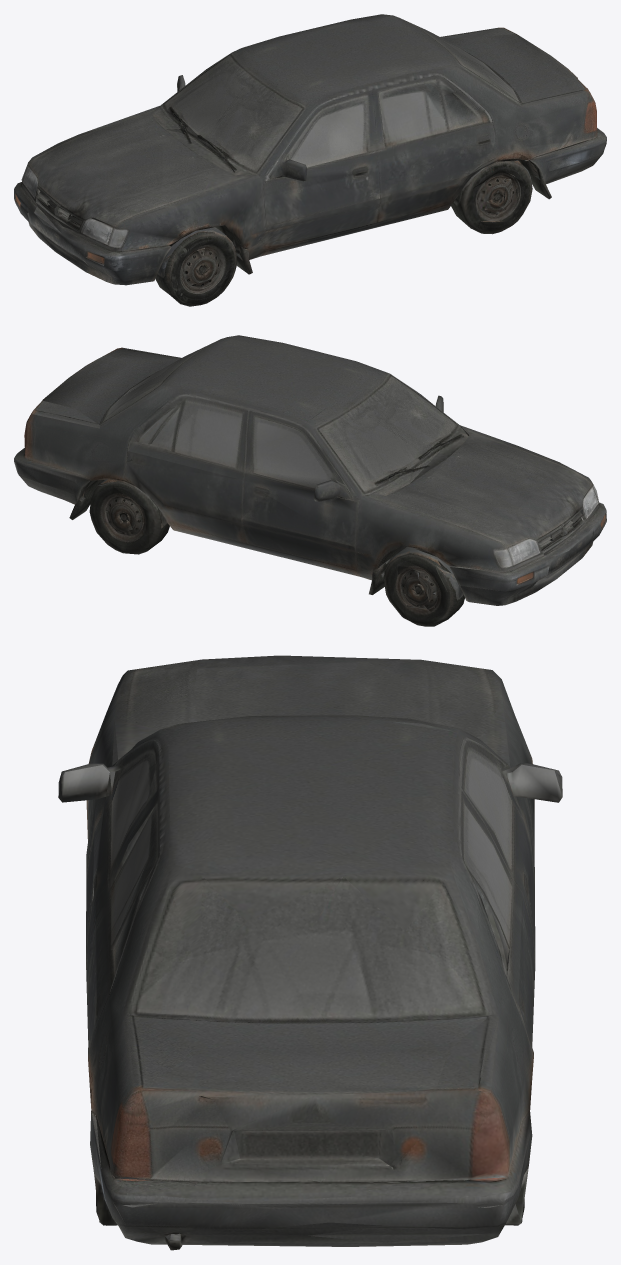
The model's file is car_sedan_light.glb.
The picture shows the model from 3 angles, top to bottom: view 1: azimuth 30°, elevation 25°; view 2: azimuth 150°, elevation 25°; view 3: azimuth 270°, elevation 25°; orthographic projection. The views are drawn at different scales.
Parts seen in each view (by area): view 1: output_unwrapped; view 2: output_unwrapped; view 3: output_unwrapped.
Part boxes in pixels (x1,y1,x2,y2): output_unwrapped: (14,14,606,306); output_unwrapped: (14,335,606,626); output_unwrapped: (58,655,562,1250).
Bounding box in the file's own units: 4.8 × 1.5 × 2.04.
Materials: 1 (1 with a texture image).
